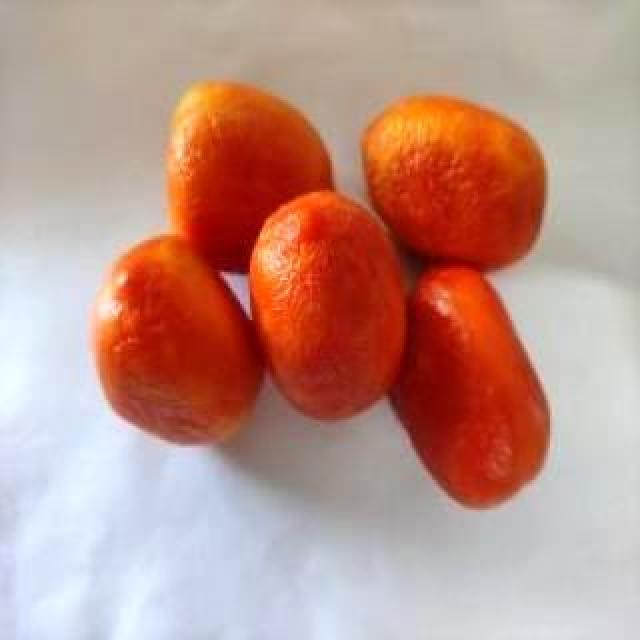Rotten_Tomato: (384, 262, 564, 514), (86, 222, 266, 462), (242, 178, 412, 426), (352, 88, 558, 276), (162, 76, 348, 274)
